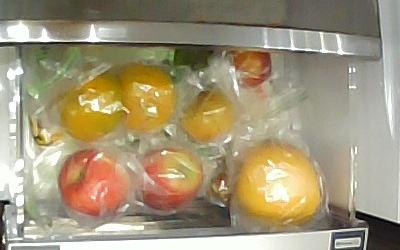apple_vinyl: (57, 149, 133, 218), (136, 145, 202, 210)
grapefruit_vinyl: (234, 141, 320, 225)
persimmon_vinyl: (59, 70, 122, 142), (121, 62, 177, 135)
prune_vinyl: (180, 86, 235, 143), (228, 48, 271, 88)
